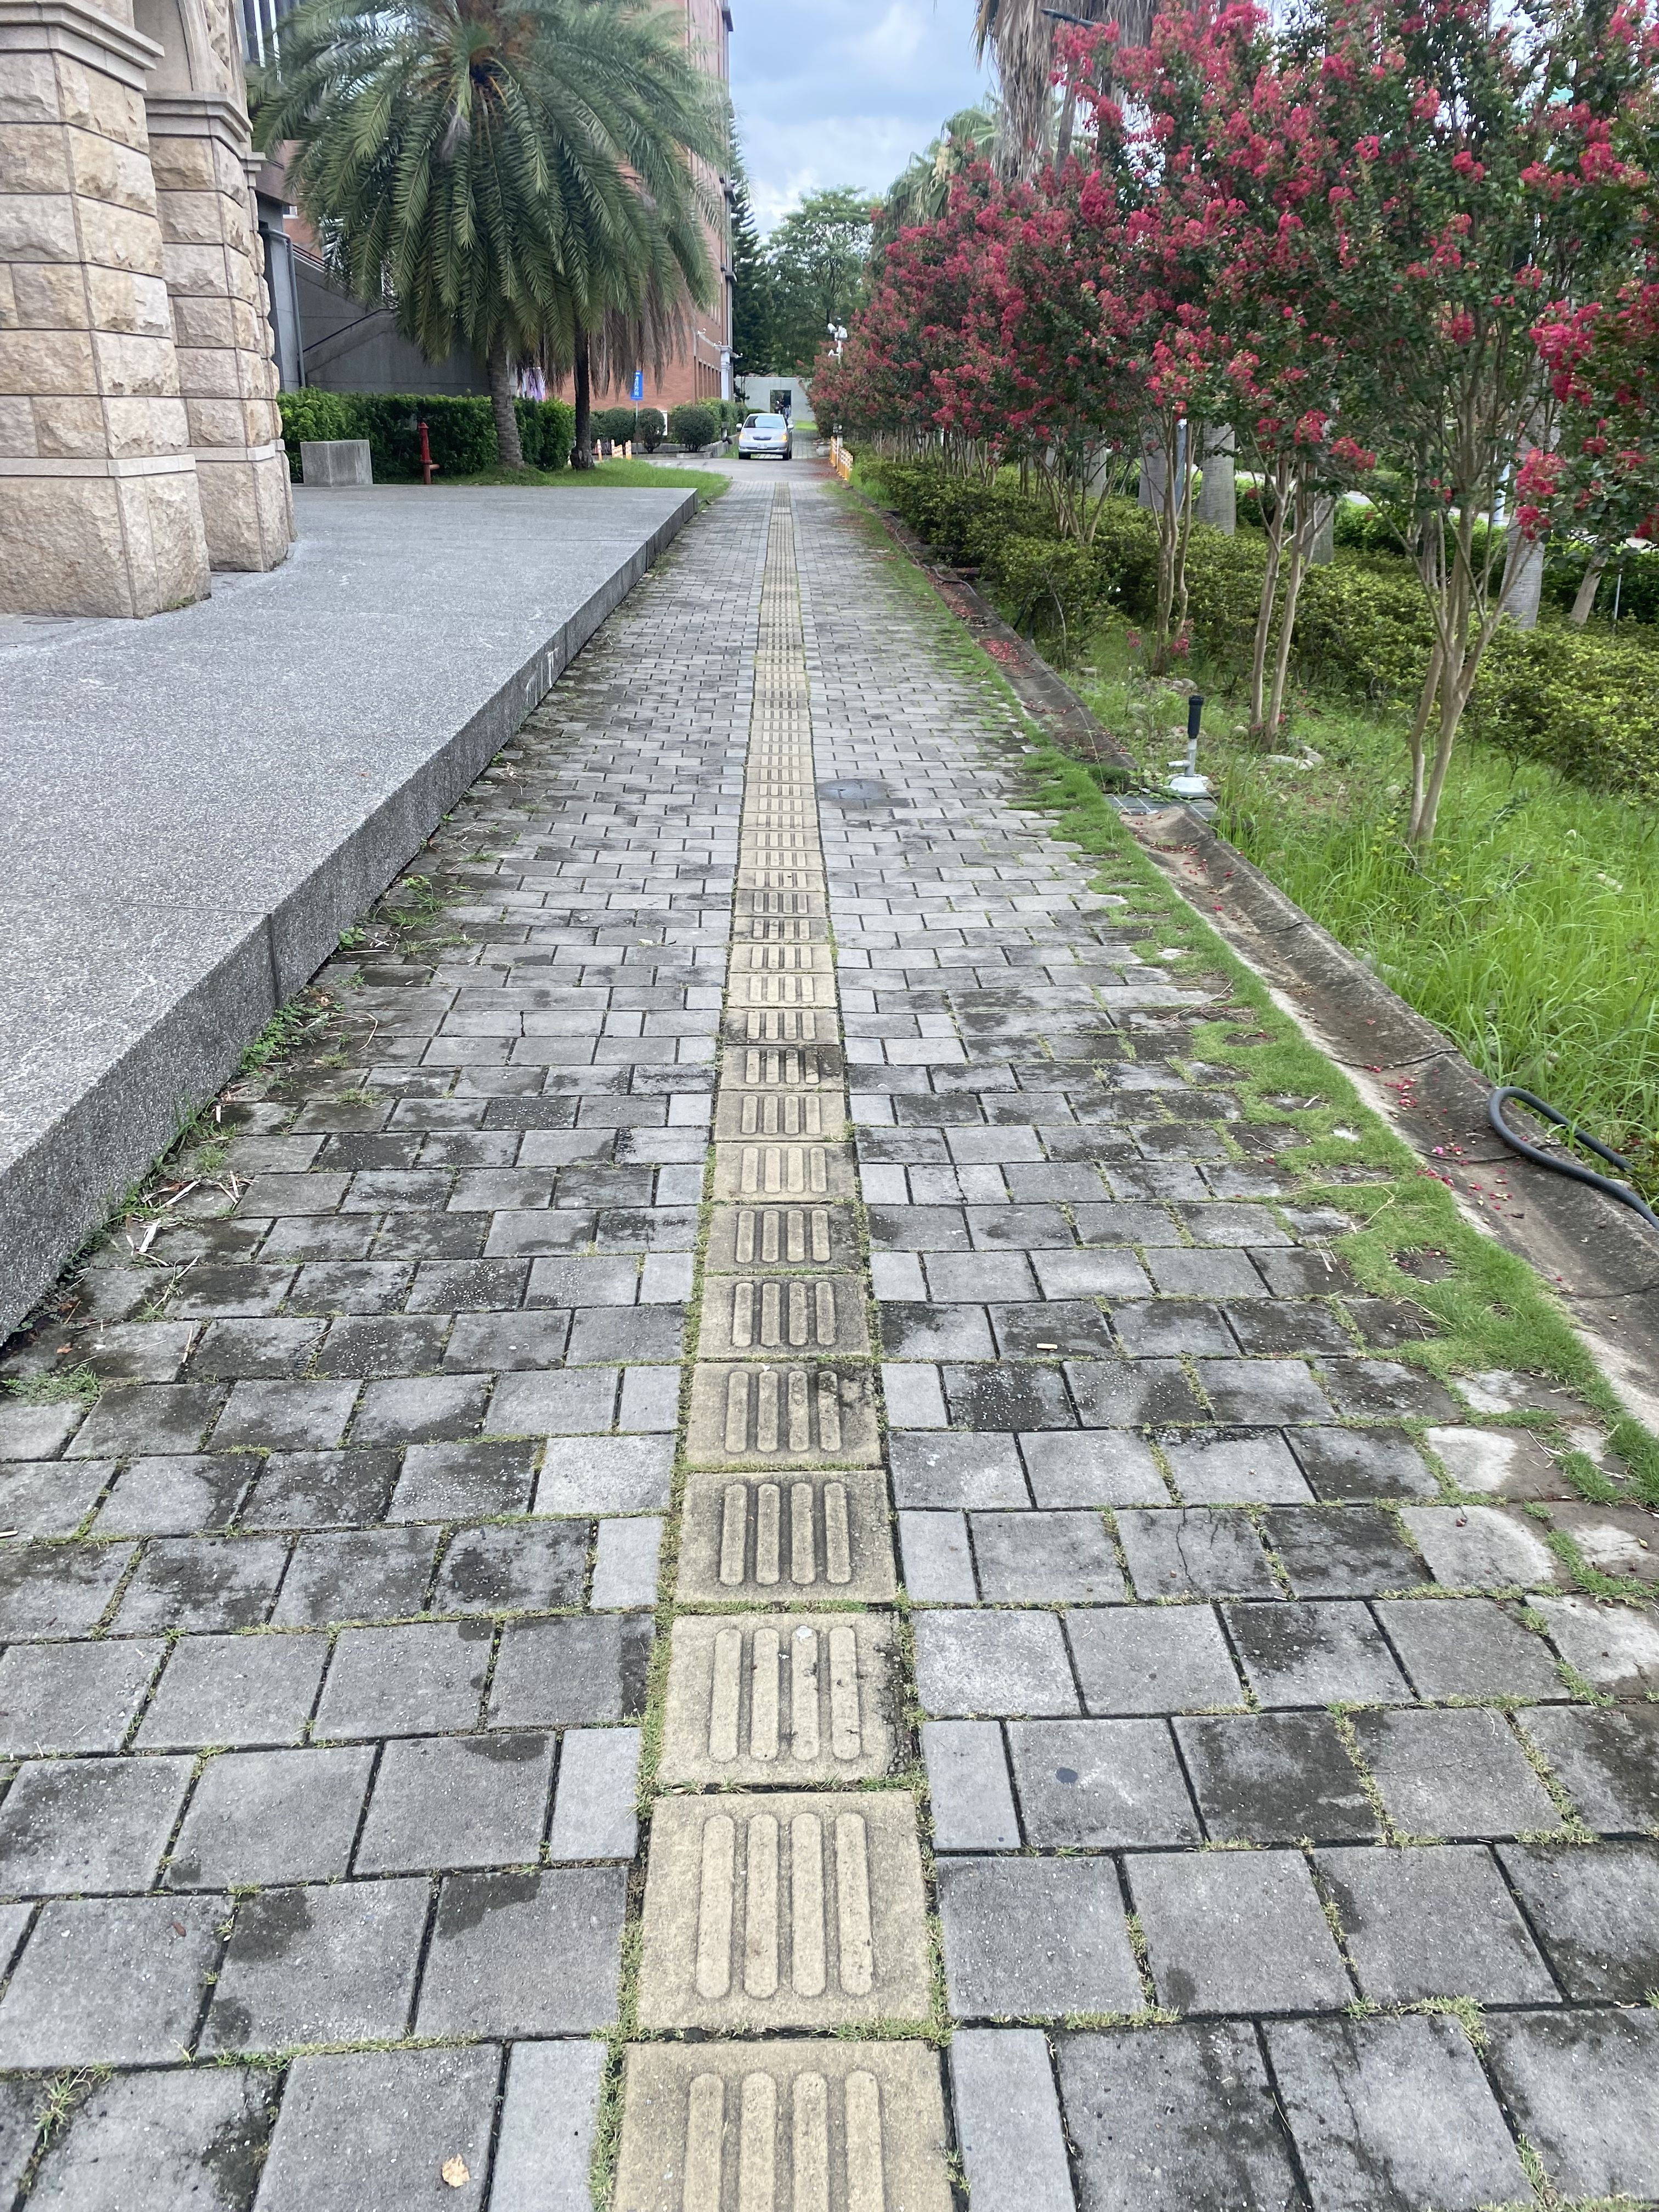0: (3, 672, 1659, 2212)
sidewalk: (535, 474, 1175, 1474)
